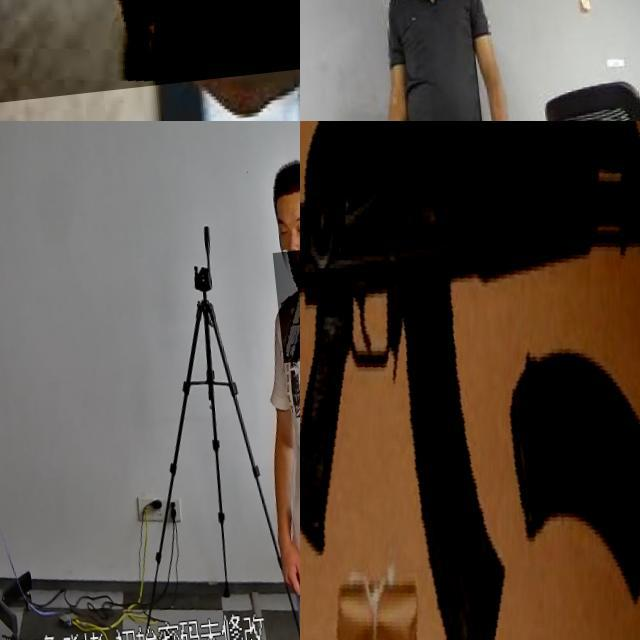gun-knife-thesis - v11 Yolov5 augmented: (300, 121, 640, 640), (0, 0, 300, 121), (267, 256, 300, 371)
